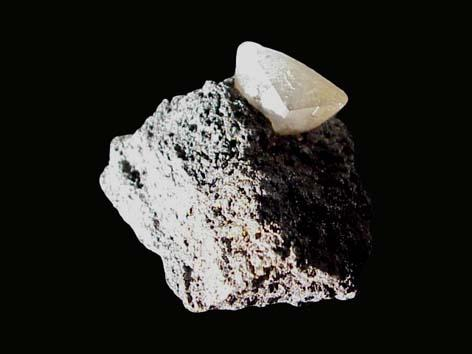calcite: (236, 42, 348, 134)
